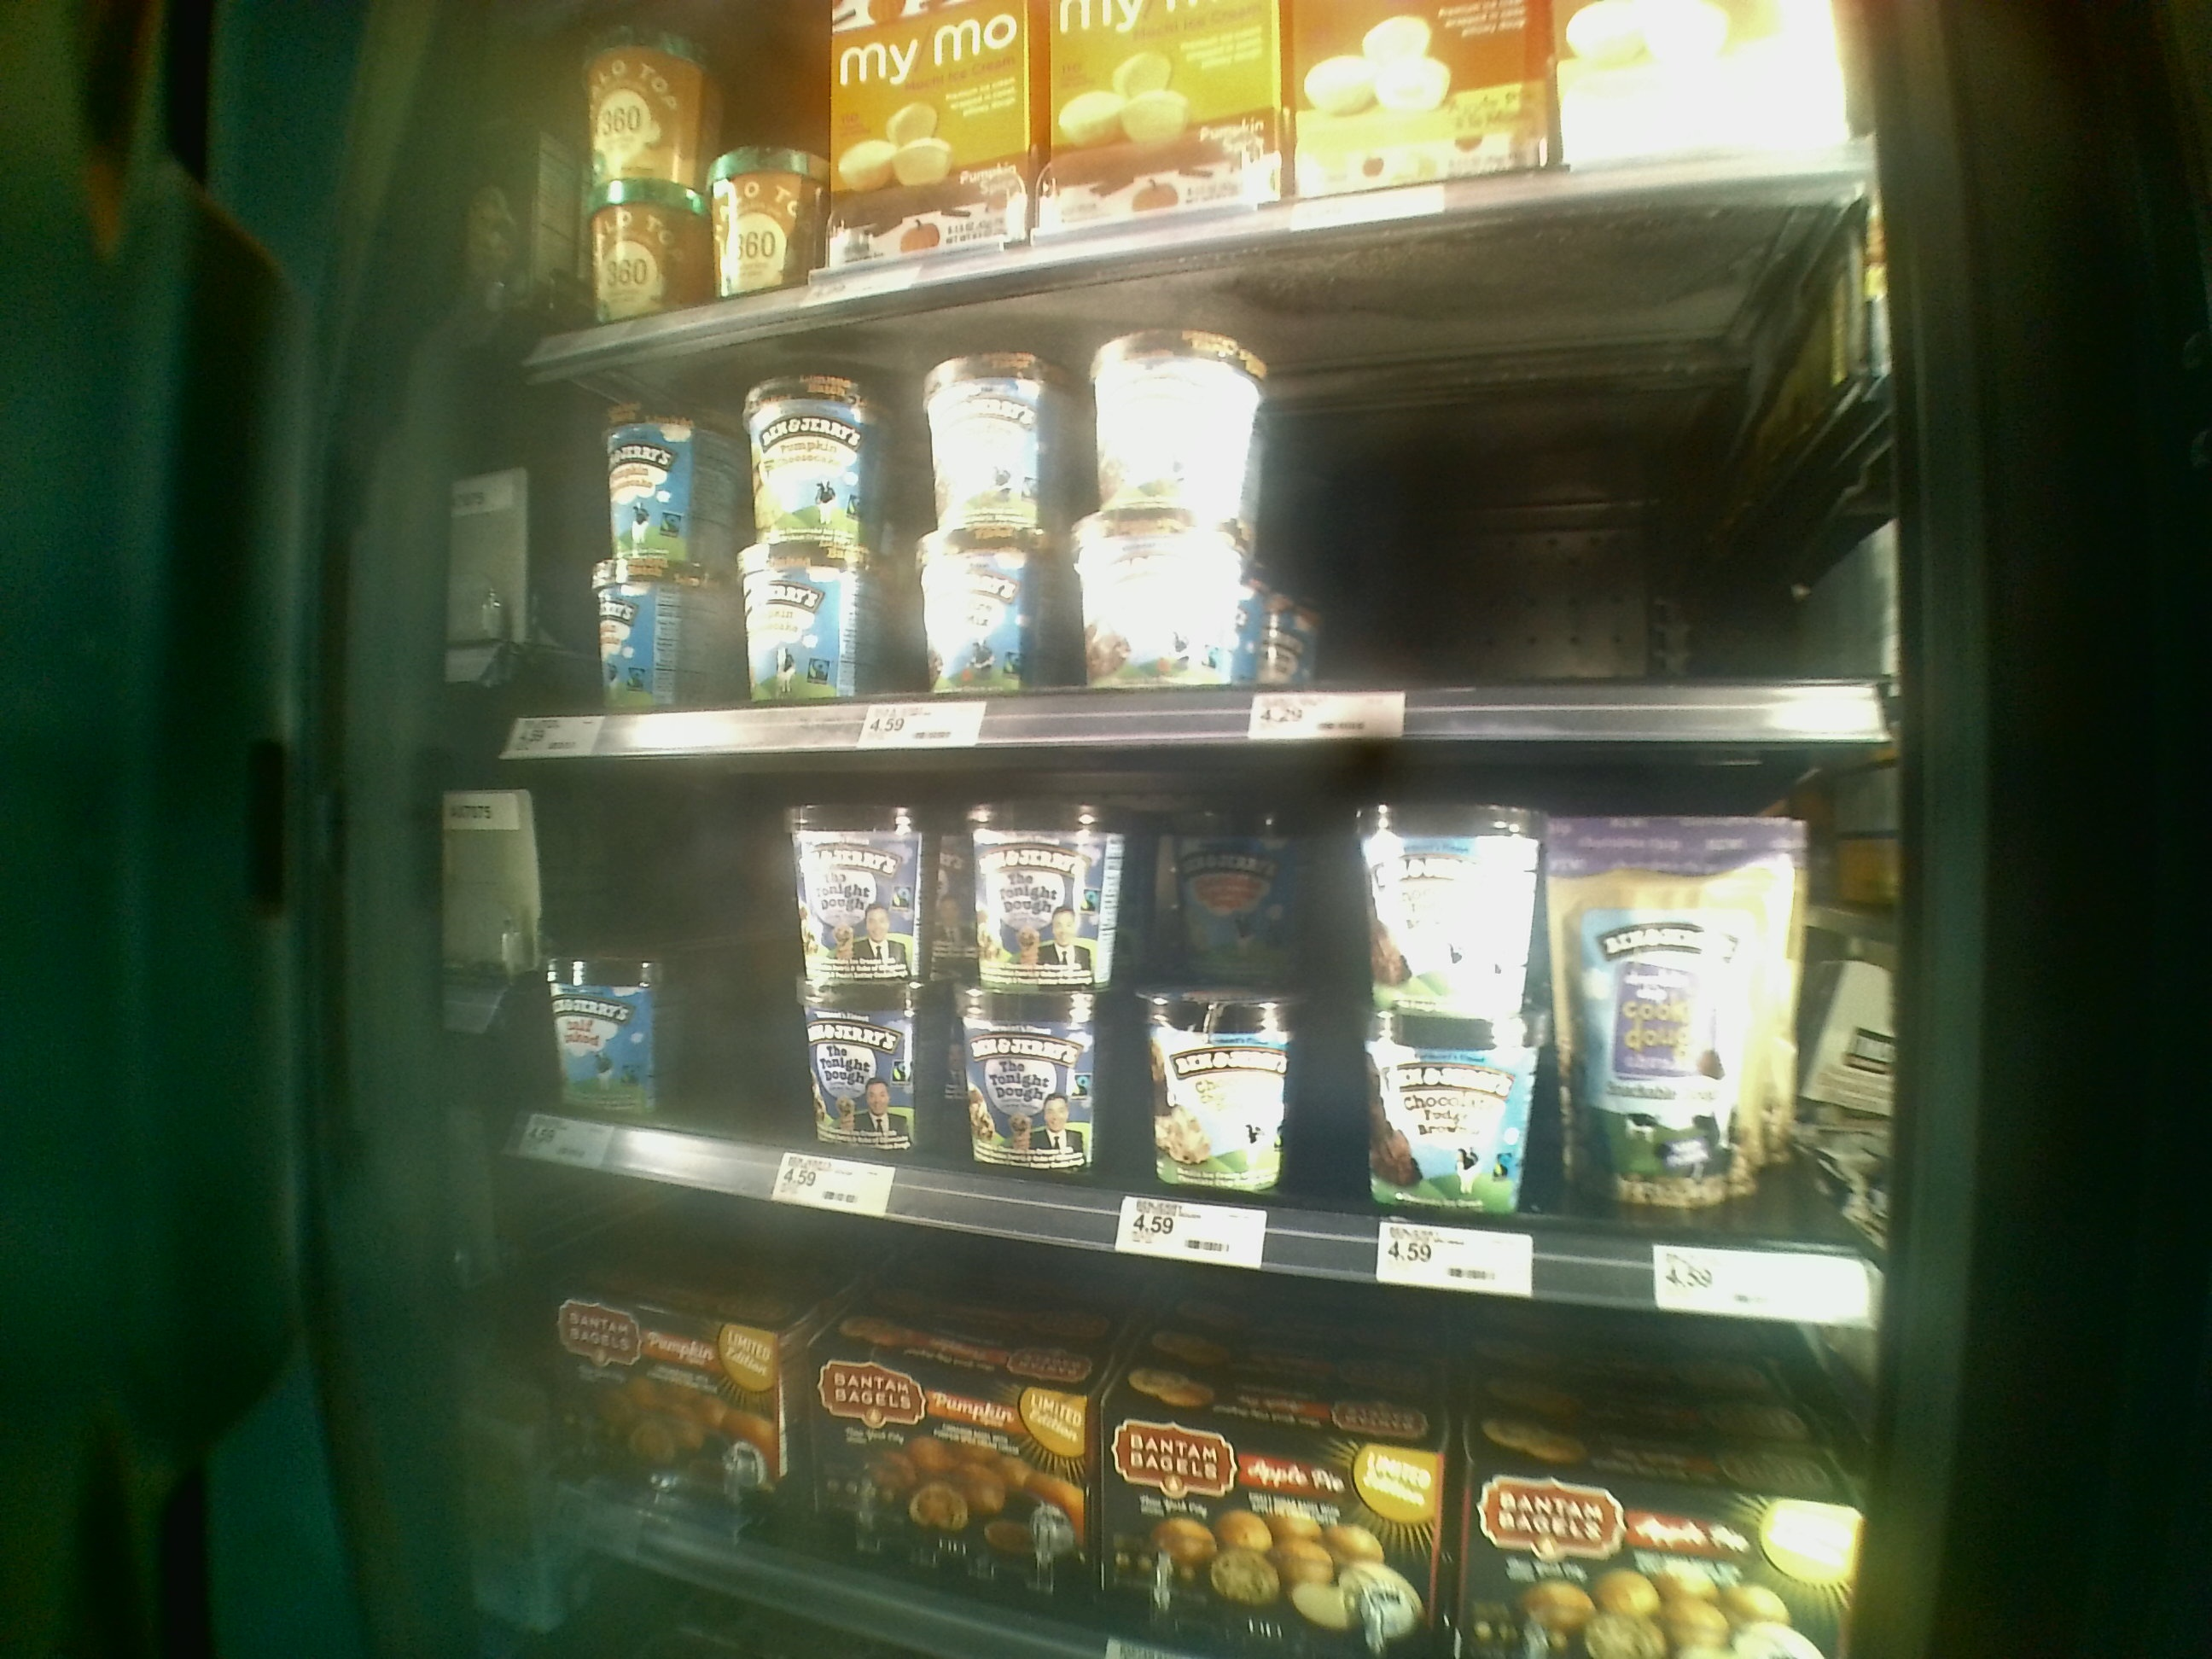shelf: (510, 727, 1850, 1298), (524, 326, 1872, 716)
